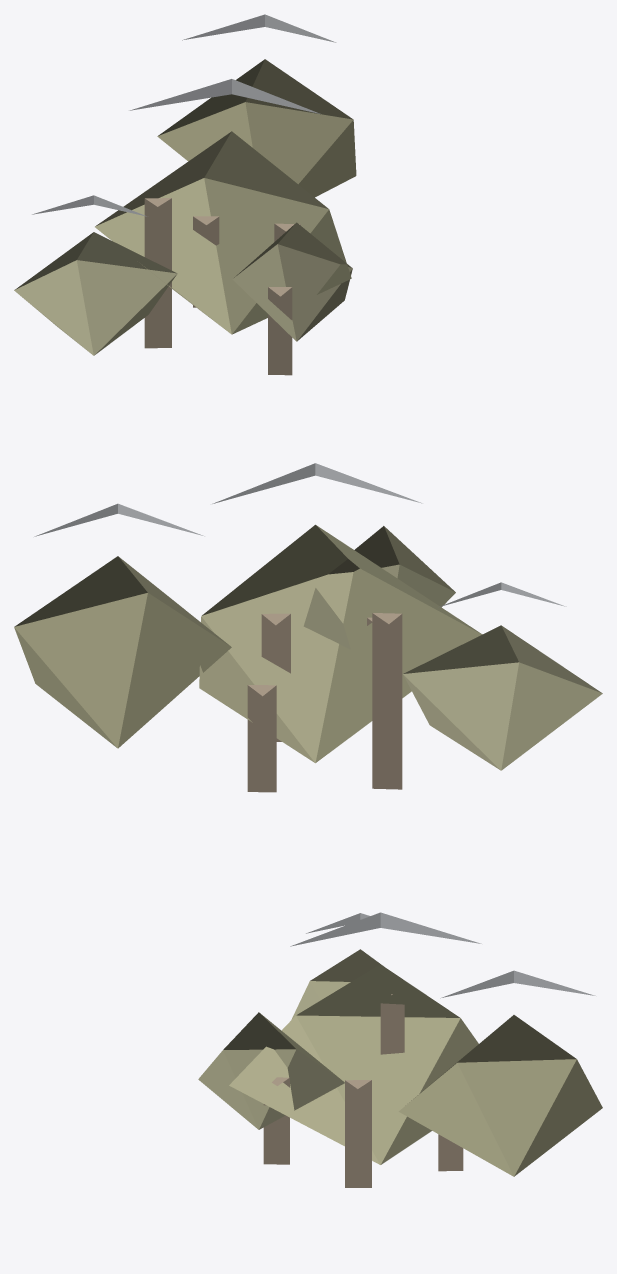
File: shrub.cold.dwarf_birch__winter.glb
3 renders of one model, top to bottom at view 1: azimuth 30°, elevation 25°; view 2: azimuth 150°, elevation 25°; view 3: azimuth 270°, elevation 25°, orthographic. The views are drawn at different scales.
Visible parts, largest first — view 1: shrub.cold.dwarf_birch__winter; view 2: shrub.cold.dwarf_birch__winter; view 3: shrub.cold.dwarf_birch__winter.
Part boxes in pixels (<box>): shrub.cold.dwarf_birch__winter: <box>14,14,356,375</box>; shrub.cold.dwarf_birch__winter: <box>14,463,602,792</box>; shrub.cold.dwarf_birch__winter: <box>198,912,602,1187</box>.
Bounding box in the file's own units: 1.74 × 1.07 × 2.21.
